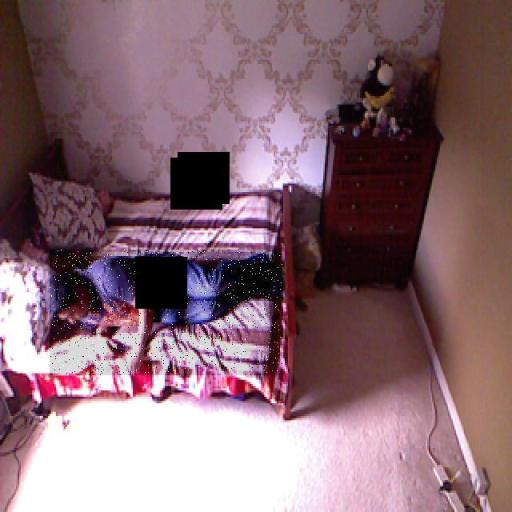Fall: (50, 250, 283, 375)
